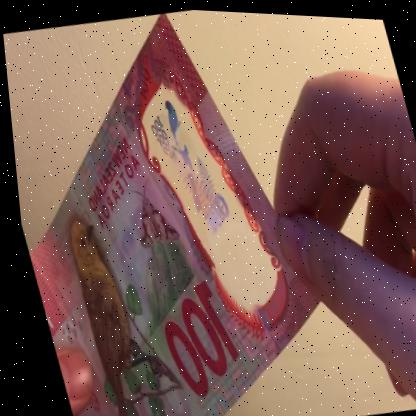100B: (134, 79, 238, 239)
